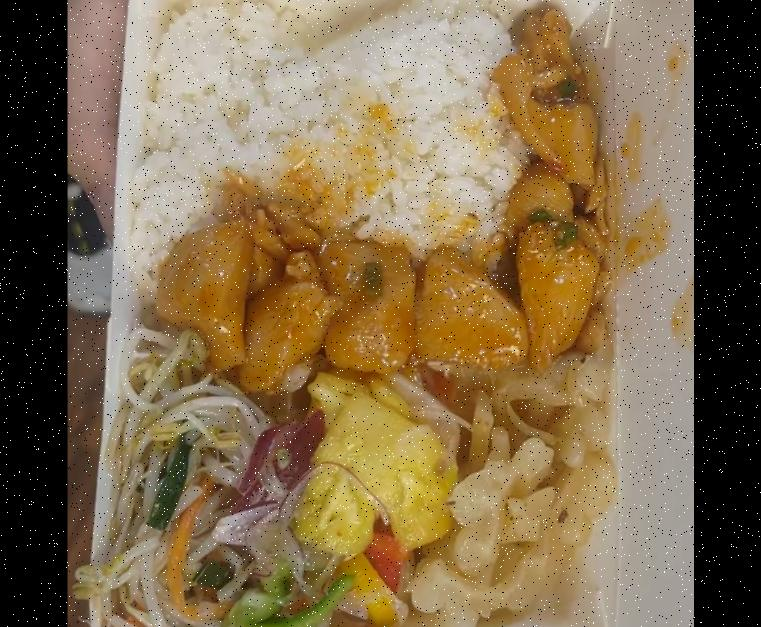box: (83, 0, 629, 627)
curry chicken: (152, 6, 610, 378)
side dish: (95, 375, 443, 627), (420, 360, 615, 627)
white rice: (128, 0, 516, 315)
